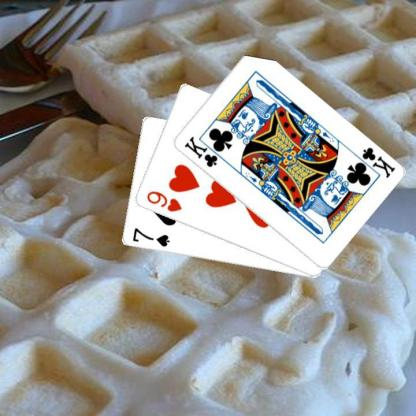7S: (130, 226, 170, 248)
9H: (143, 188, 183, 214)
KC: (181, 134, 226, 168), (351, 145, 396, 179)
